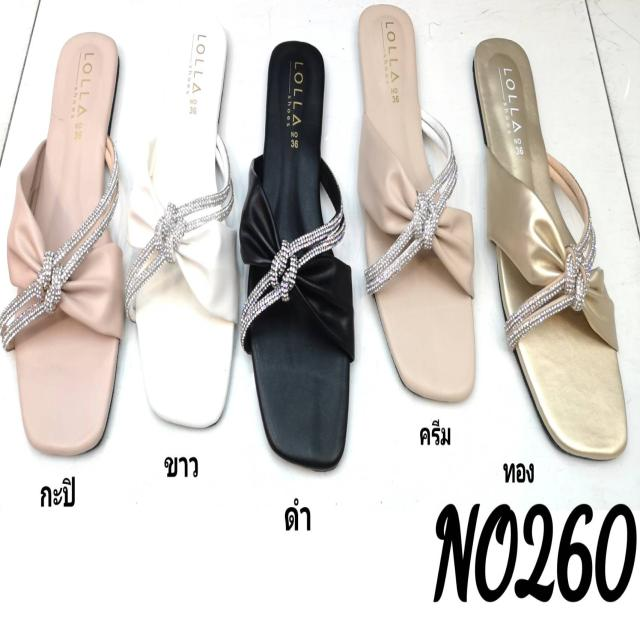black: (243, 29, 349, 467)
cream: (358, 4, 477, 396)
gold: (474, 37, 626, 460)
kapi: (18, 32, 124, 452)
white: (130, 16, 237, 419)
